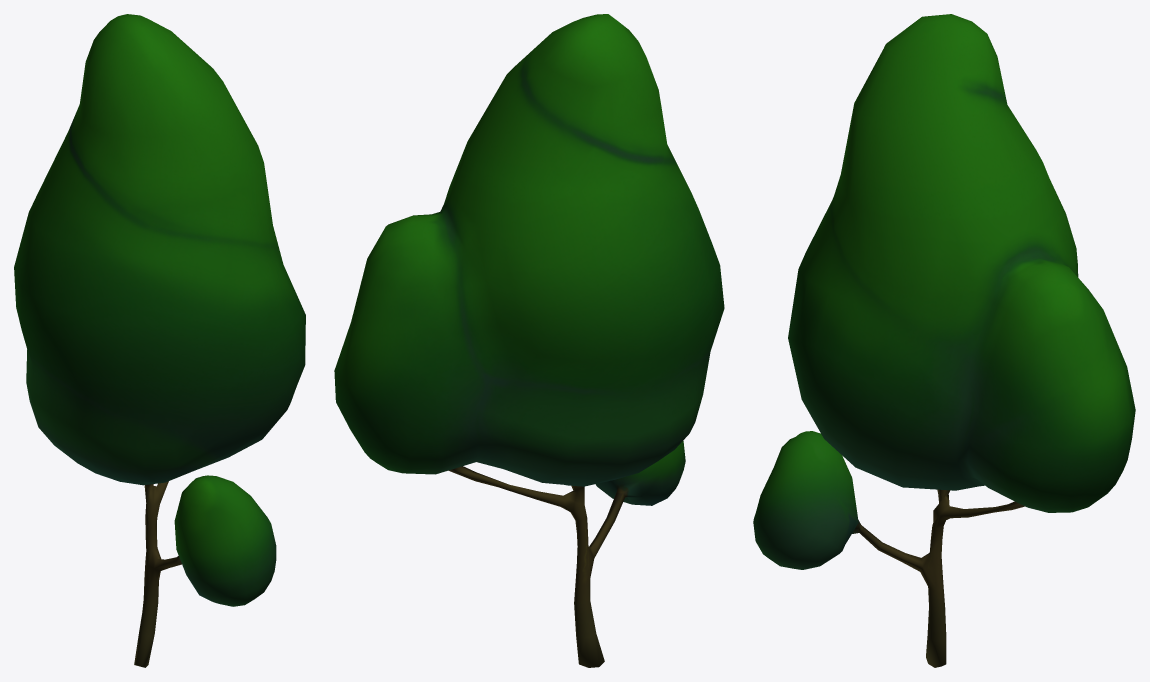
Rendered from SwirlTree.fbx.
The picture shows the model from 3 angles, left to right: view 1: azimuth 30°, elevation 25°; view 2: azimuth 150°, elevation 25°; view 3: azimuth 270°, elevation 25°; orthographic projection.
Visible parts, largest first — view 1: SwirlBush; view 2: SwirlBush; view 3: SwirlBush.
Part boxes in pixels (left/top/right/bottom): SwirlBush: left=14, top=14, right=305, bottom=667; SwirlBush: left=334, top=14, right=724, bottom=667; SwirlBush: left=753, top=14, right=1135, bottom=667.
Size of the model in its own units: 225 by 471 by 252.
